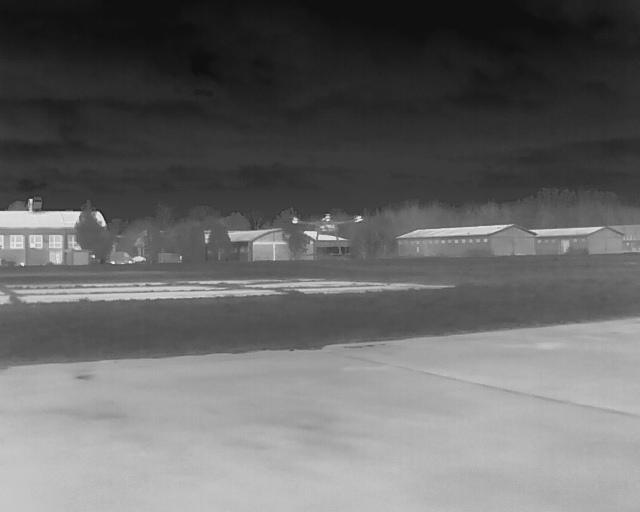drone: (280, 206, 367, 264)
